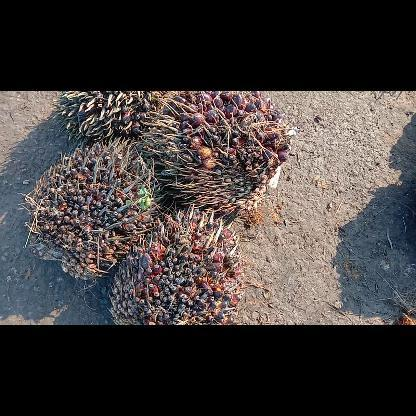TBS abnormal: (18, 136, 162, 282), (106, 202, 250, 324), (51, 91, 173, 143)
TBS masak: (140, 90, 294, 220)
